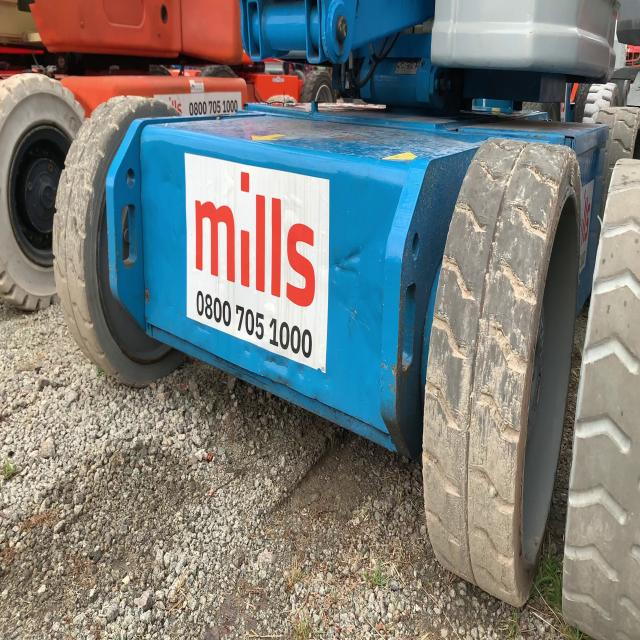Adesivos: (183, 150, 331, 381)
